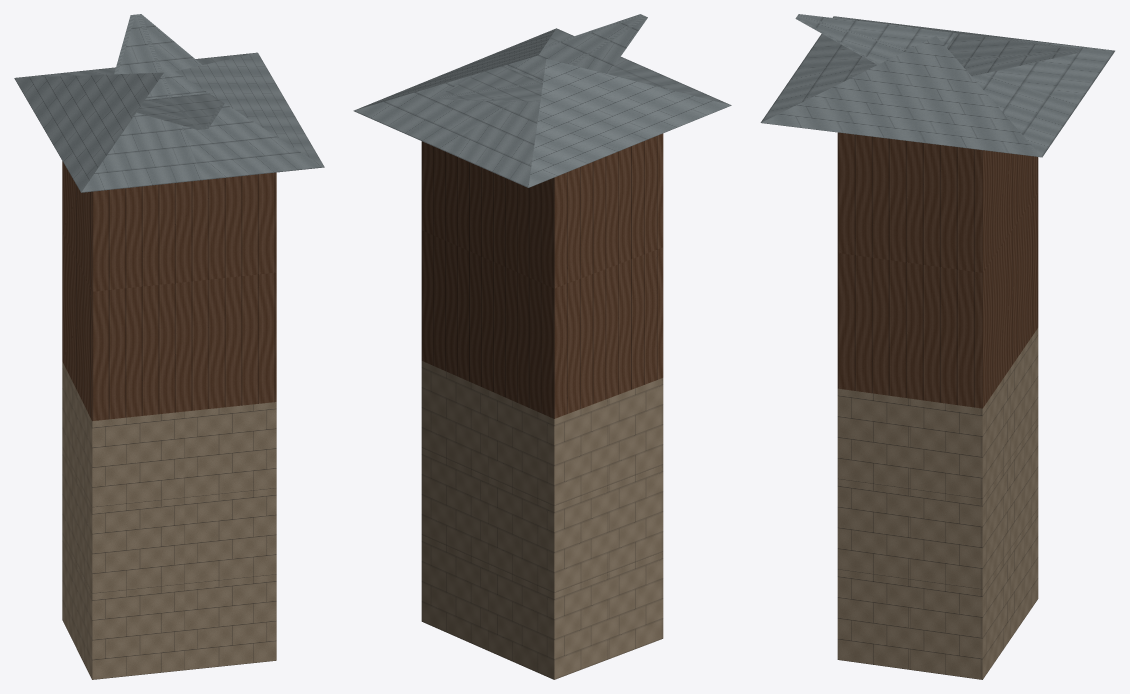
Rendered from bld_c8_38_513.gltf.
The picture shows the model from 3 angles, left to right: view 1: azimuth 30°, elevation 25°; view 2: azimuth 150°, elevation 25°; view 3: azimuth 270°, elevation 25°; orthographic projection. The views are drawn at different scales.
Visible parts, largest first — view 1: bld_c8_38_513; view 2: bld_c8_38_513; view 3: bld_c8_38_513.
Boxes of the visible parts, box(x1,y1,x2,y2) form: bld_c8_38_513: box(14, 14, 324, 679); bld_c8_38_513: box(353, 14, 731, 679); bld_c8_38_513: box(760, 14, 1114, 679).
Bounding box in the file's own units: 5.7 × 11.2 × 6.05.
Materials: 3 (3 with a texture image).
